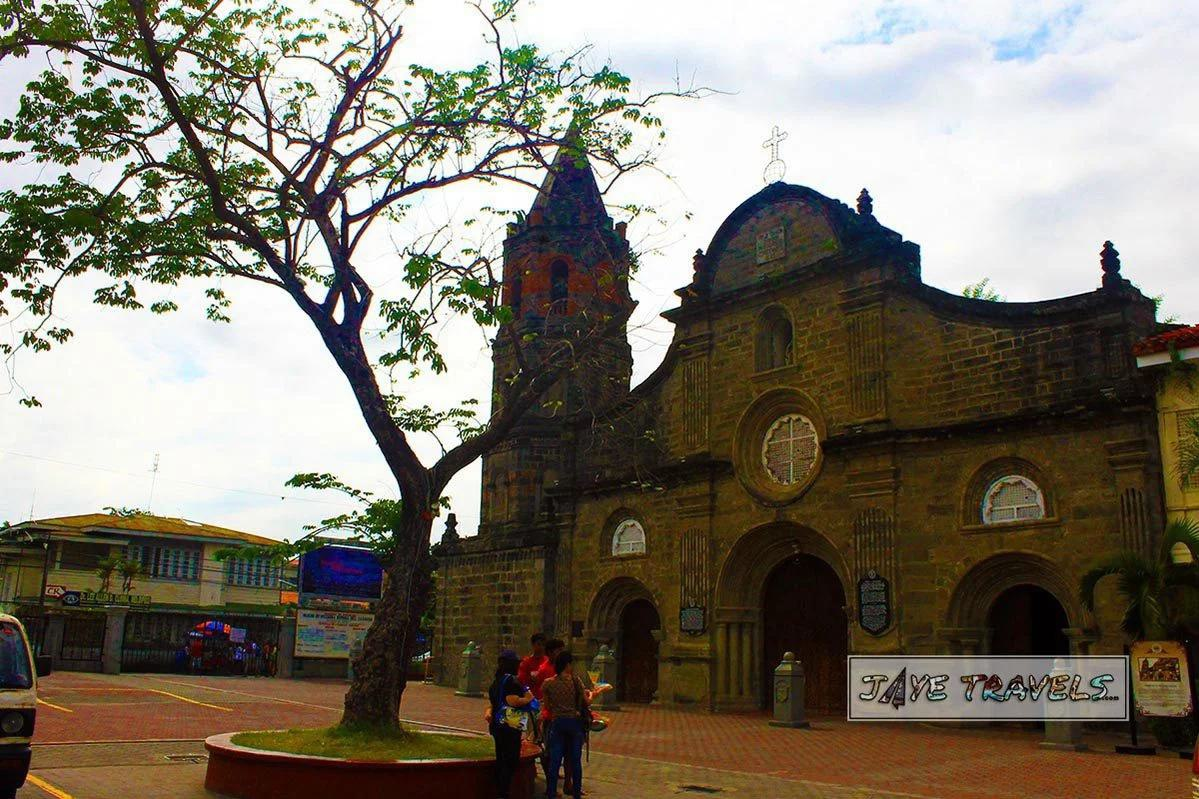barasoain_church_malolos_bulacan: (430, 103, 1168, 740)
